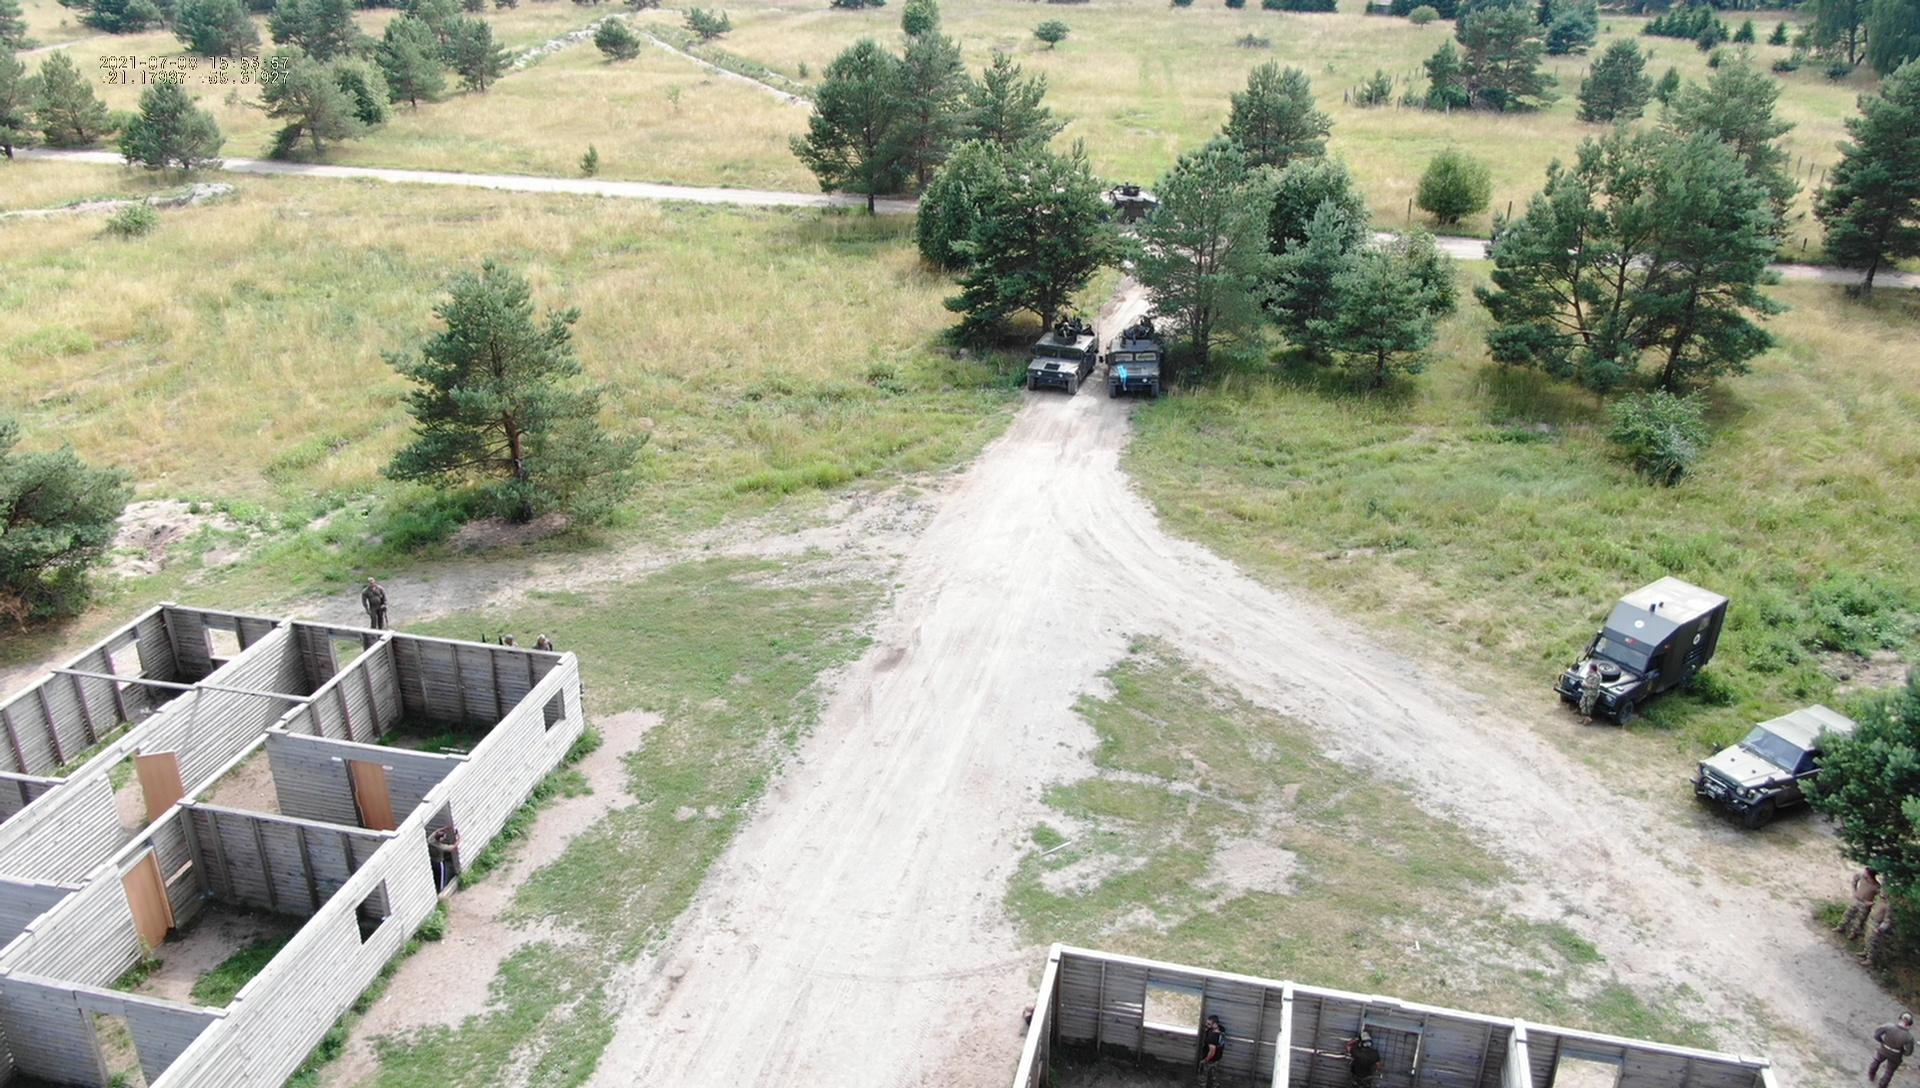Soldier: (1336, 1019, 1406, 1087), (1863, 880, 1902, 963), (1840, 855, 1878, 938), (1578, 655, 1611, 721), (360, 579, 394, 626), (1050, 318, 1073, 342), (1134, 320, 1155, 344)
